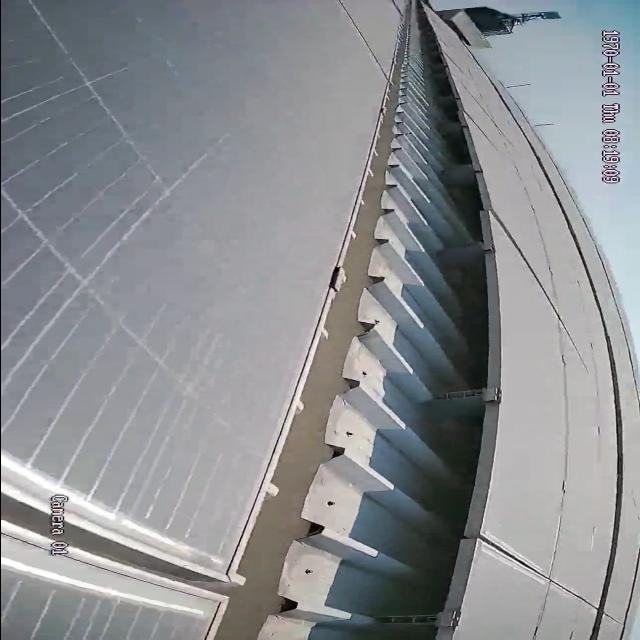interior panel: (4, 463, 223, 611), (479, 538, 594, 615)
outher panel: (209, 6, 495, 640)
